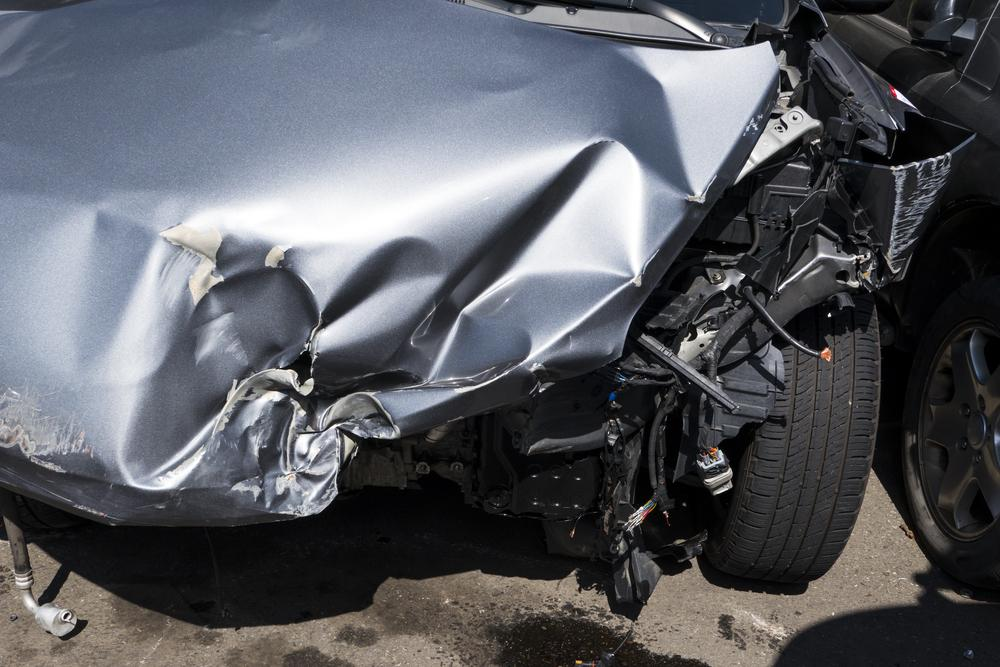dent: (50, 56, 728, 510)
scratch: (0, 385, 97, 474)
